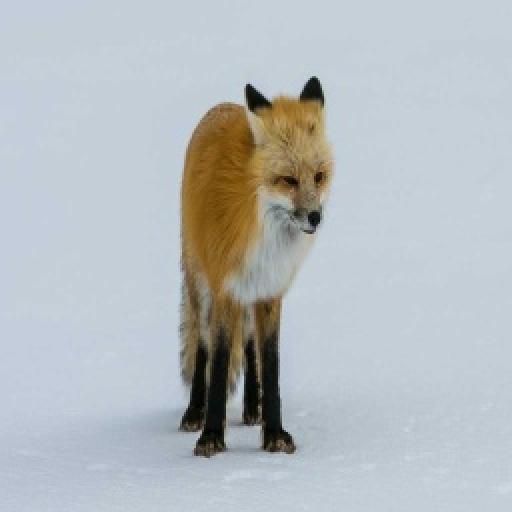zorro: (180, 78, 332, 454)
